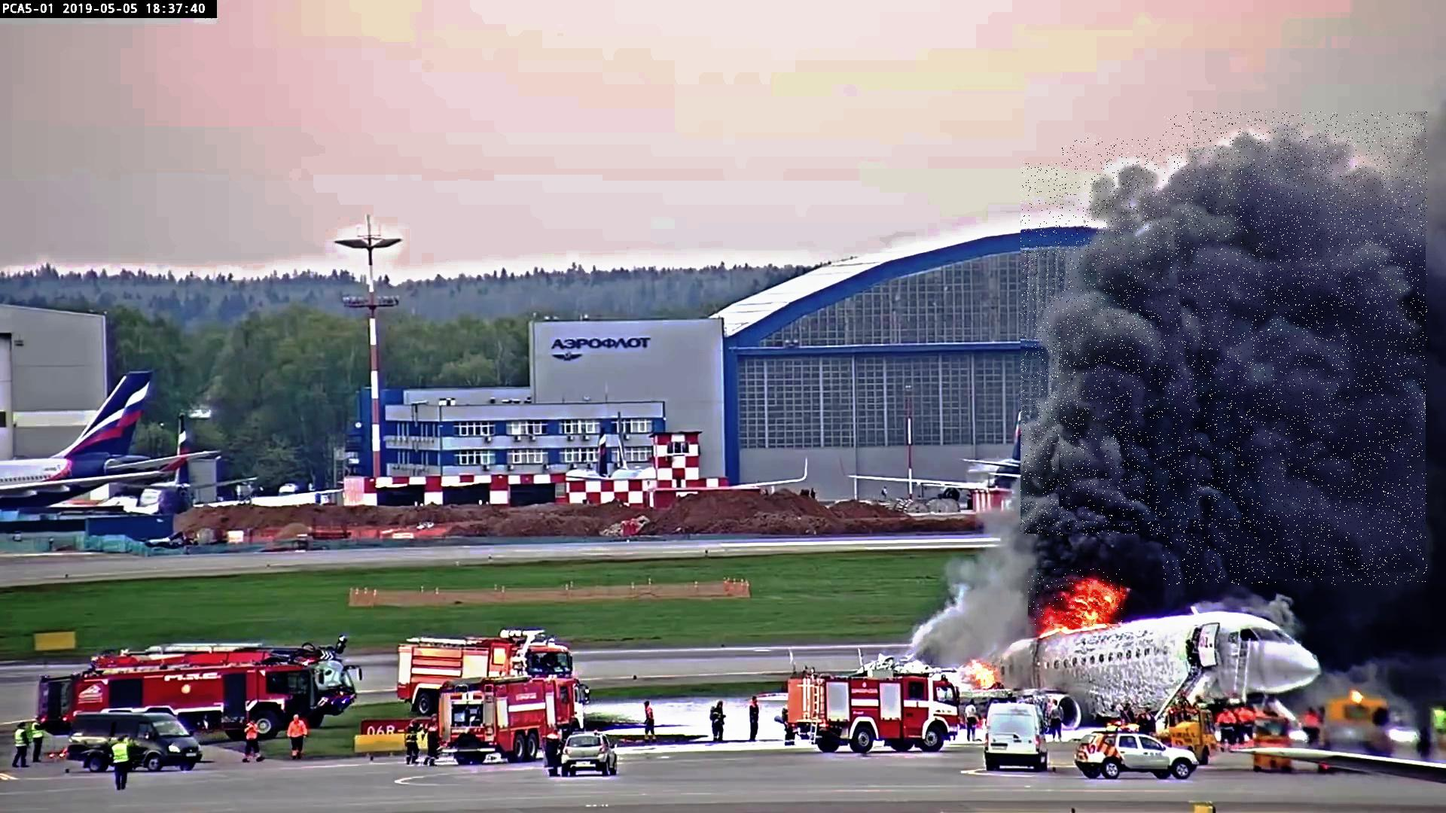fire: (1028, 569, 1123, 626)
smoke: (1061, 138, 1395, 521), (1163, 112, 1428, 585), (1021, 163, 1222, 536)
